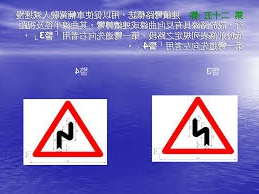Double_bend_left: (161, 94, 235, 154)
Double_bend_right: (31, 98, 105, 158)
